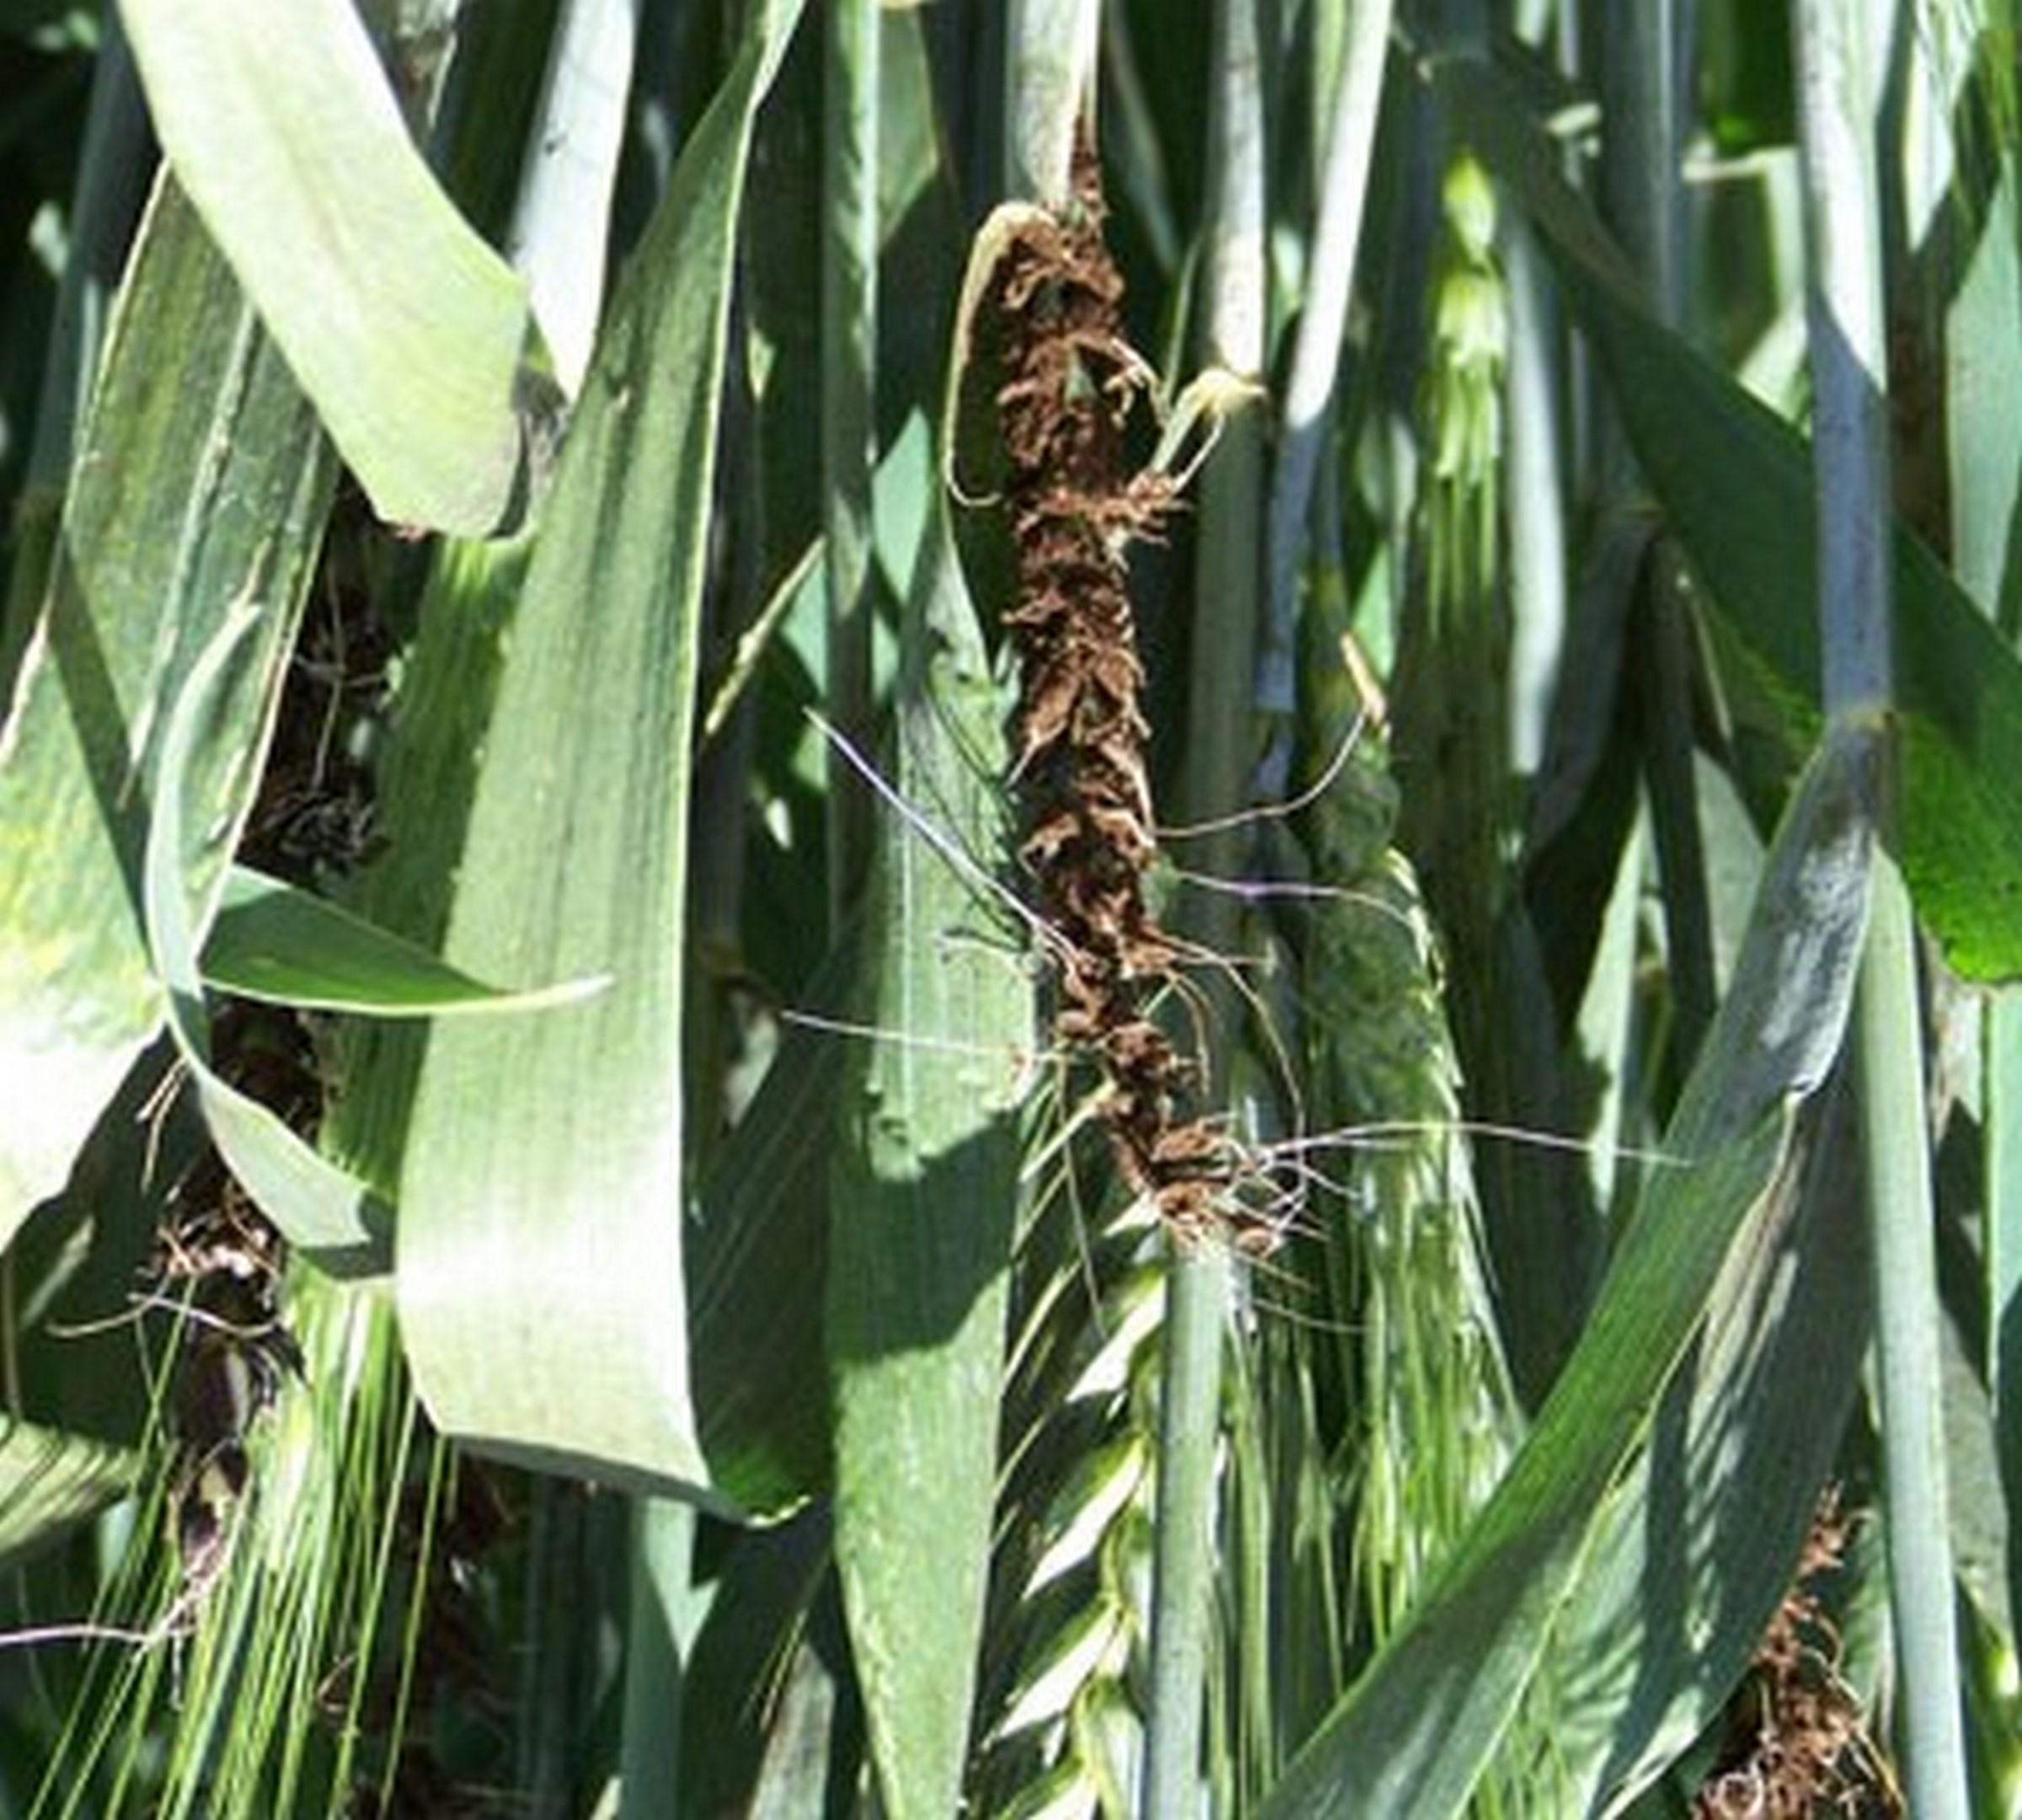Wheat Loose Smut: (956, 193, 1293, 1265)
